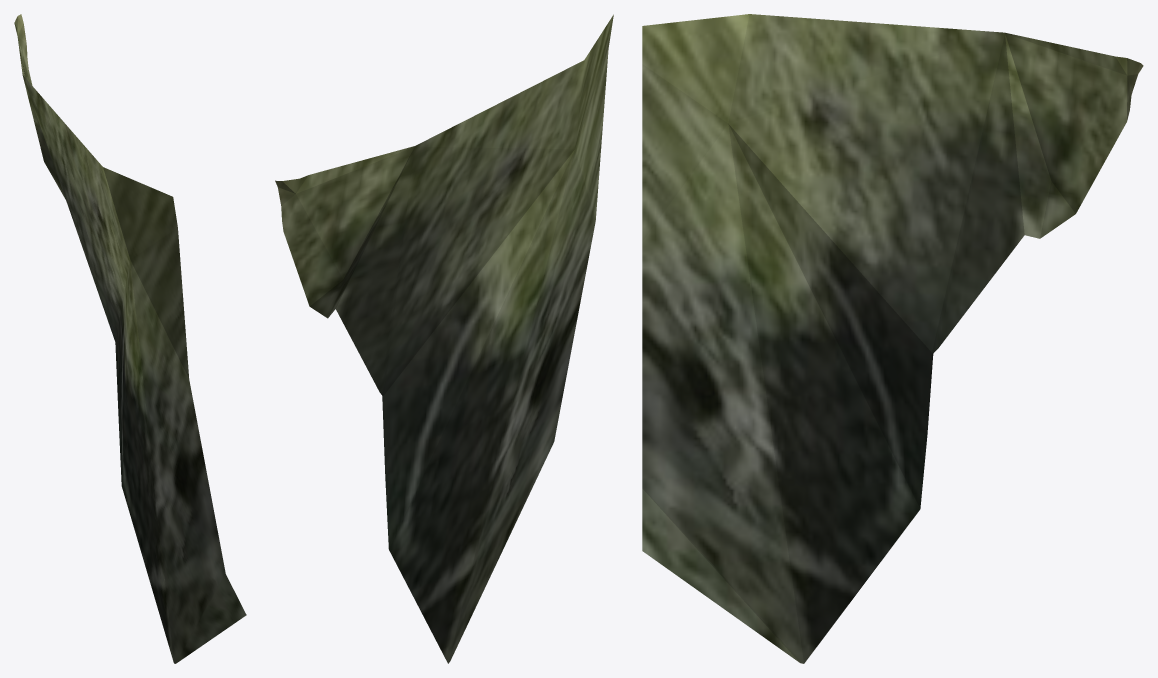
3 renders of one model, left to right at view 1: azimuth 30°, elevation 25°; view 2: azimuth 150°, elevation 25°; view 3: azimuth 270°, elevation 25°, orthographic. The views are drawn at different scales.
Bounding box in the file's own units: 0.7764 × 4.18 × 3.17.
Materials: 1 (1 with a texture image).
